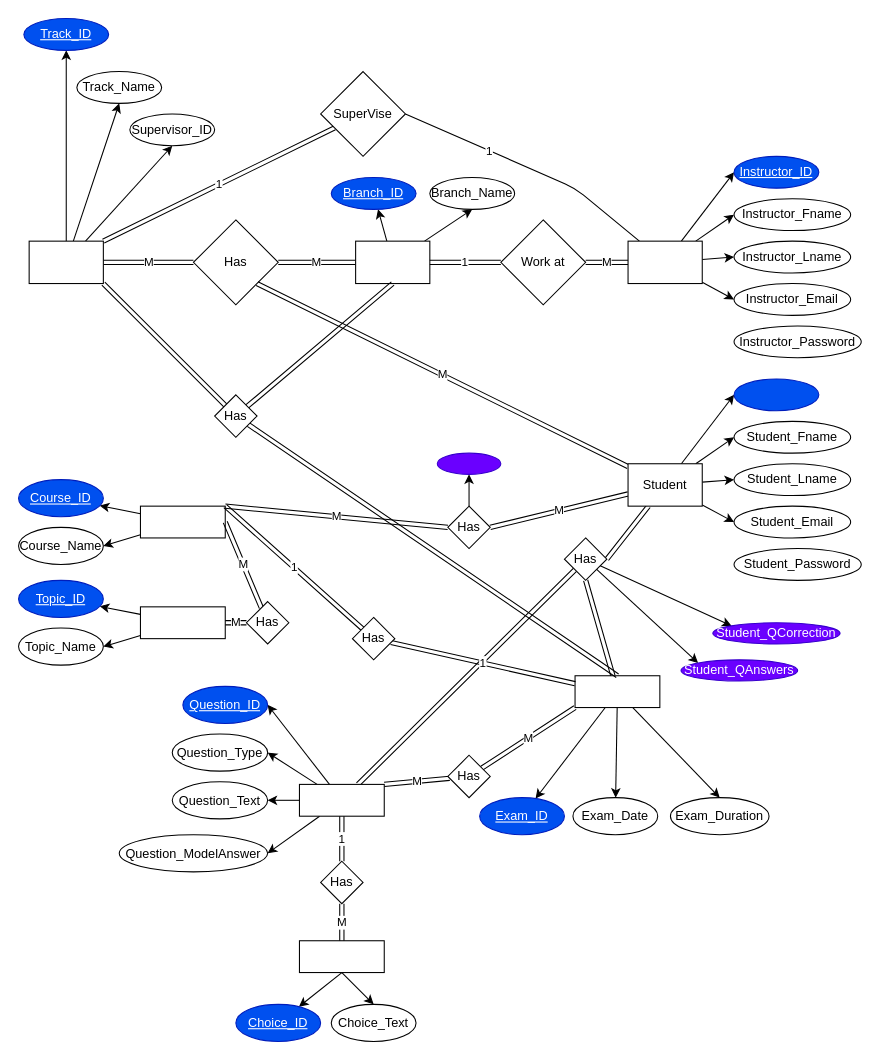
Image size: 880x1060. Some labels were removed from this diagram. Each missing label, with the centre of its shape:
"Branch" goes at point 392,262.
"Choices" goes at point 341,956.
"Courses" goes at point 182,521.
"Exams" goes at point 617,691.
"Grade" goes at point 468,463.
"Instructor" goes at point 664,262.
"Questions" goes at point 341,799.
"Student_ID" goes at point 776,394.
"Topics" goes at point 182,622.
"Track" goes at point 65,262.
